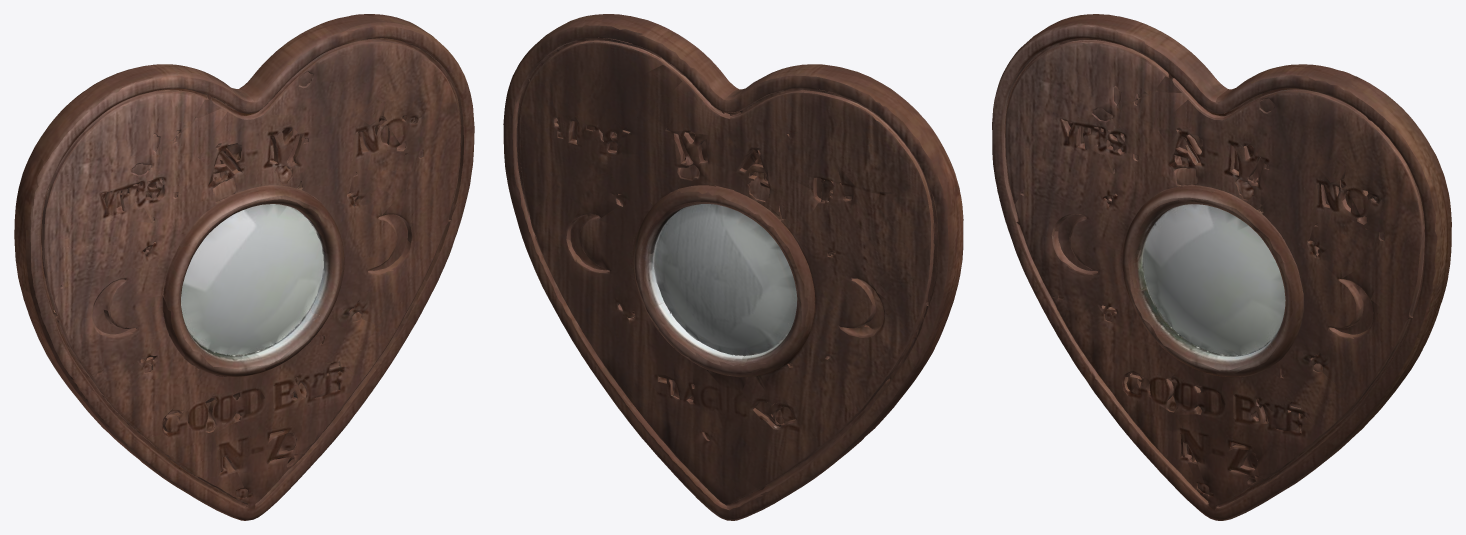
Rendered from planchette.glb.
3 renders of one model, left to right at view 1: azimuth 30°, elevation 25°; view 2: azimuth 150°, elevation 25°; view 3: azimuth 330°, elevation 25°, orthographic.
Visible parts, largest first — view 1: geometry_0; view 2: geometry_0; view 3: geometry_0.
Part boxes in pixels (box(x1,y1,x2,y2)): geometry_0: box(14, 14, 474, 520); geometry_0: box(503, 14, 963, 520); geometry_0: box(992, 14, 1451, 520).
Bounding box in the file's own units: 0.25 × 0.2502 × 0.0291.
1 material, 1 textured.
